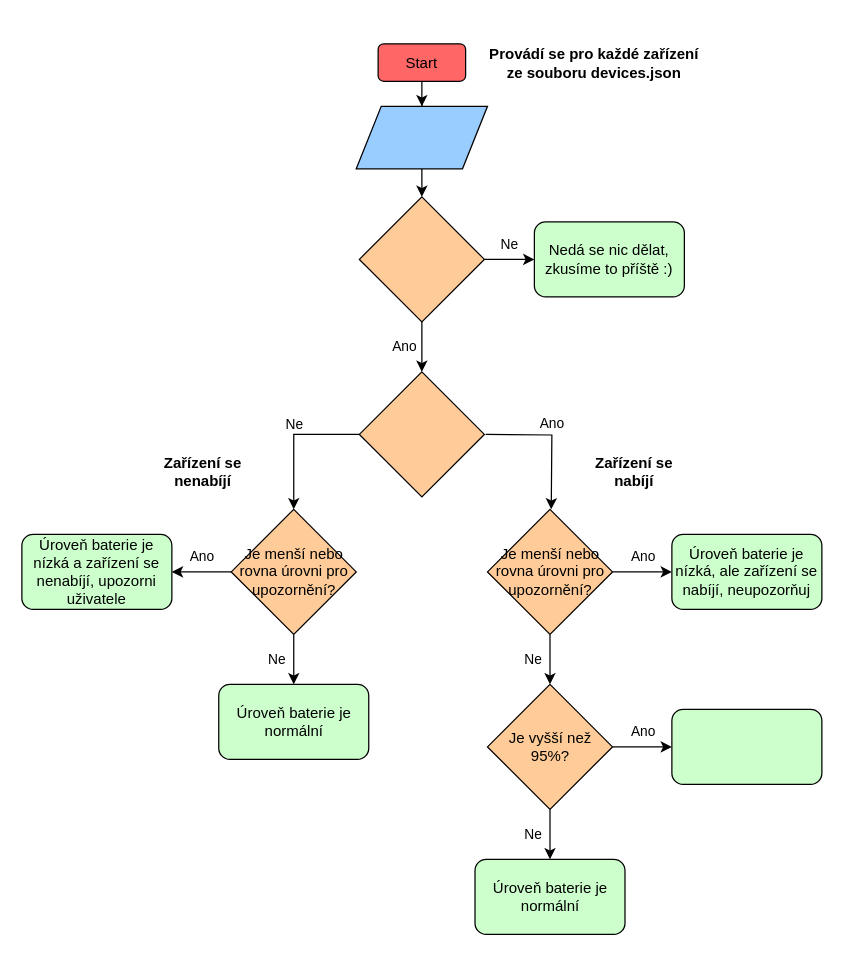
Some shapes in this 844 by 956 pixel diagram are drawn without their labels. The shapes that lost their labels are listed below. From the top down, each one's box as (x1, y1, x2, y2) in pixels, then its label:
(355, 105, 488, 169): Zjisti aktuální úroveň baterie
(358, 196, 484, 322): Bylo možné zjistit úroveň?
(358, 371, 484, 497): Je vyšší než poslední?
(671, 708, 822, 784): Úroveň baterie je maximální, upozorni uživatele na odpojení z nabíječky
